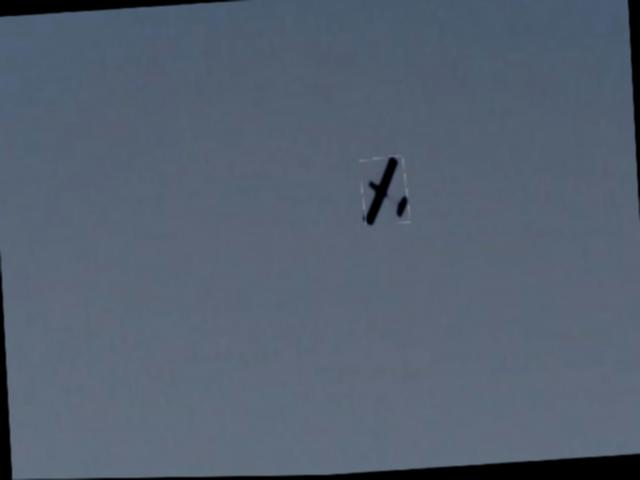insansiz-hava-araci: (360, 157, 409, 227)
